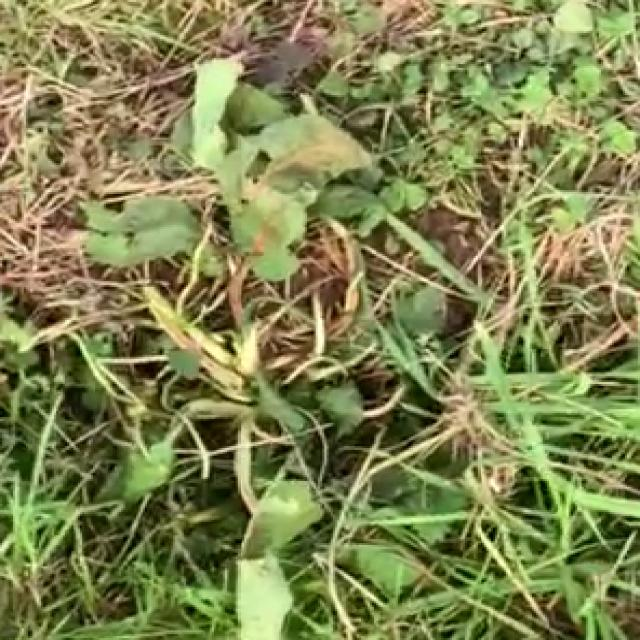organic waste: (106, 76, 467, 618)
